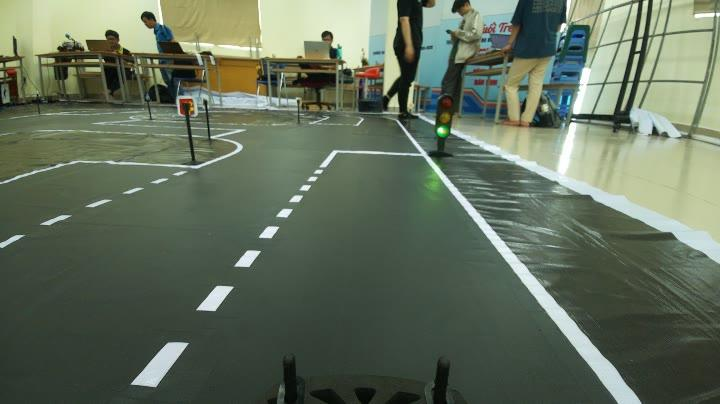trafficlight: (423, 90, 460, 161)
